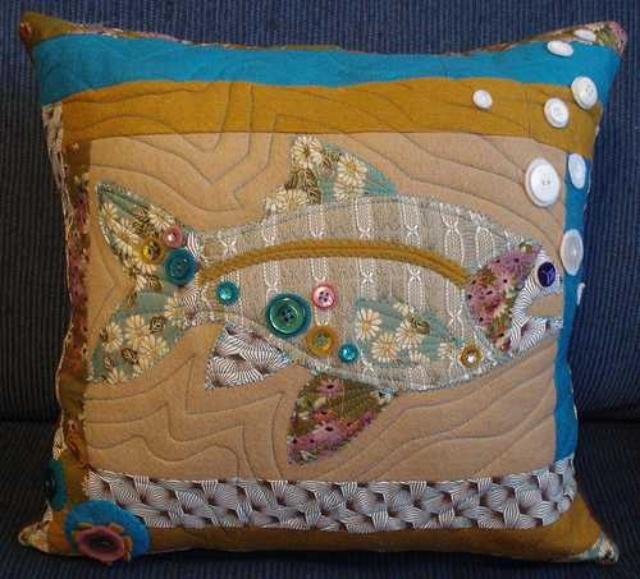pillow: (16, 9, 626, 567)
